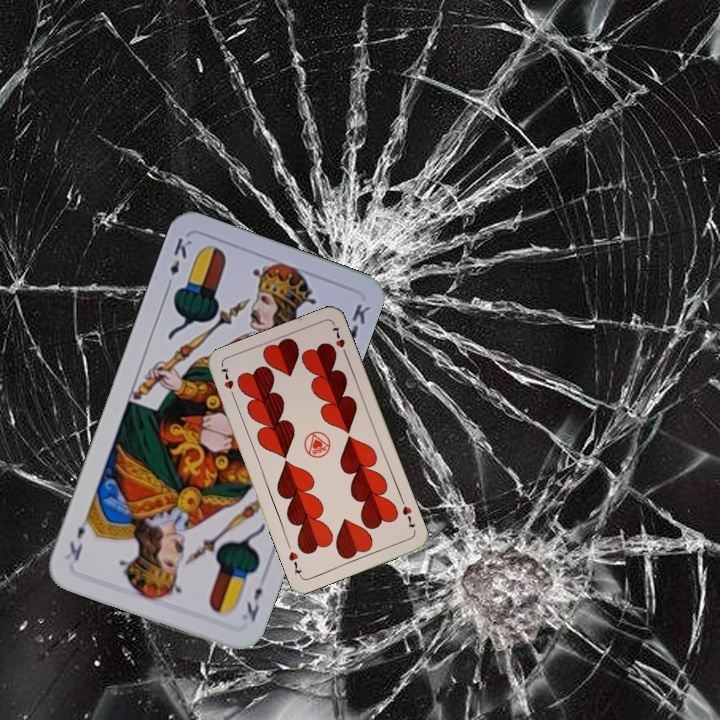EK: (162, 233, 195, 291), (242, 583, 265, 624)
H7: (217, 363, 238, 402), (398, 502, 418, 531)
